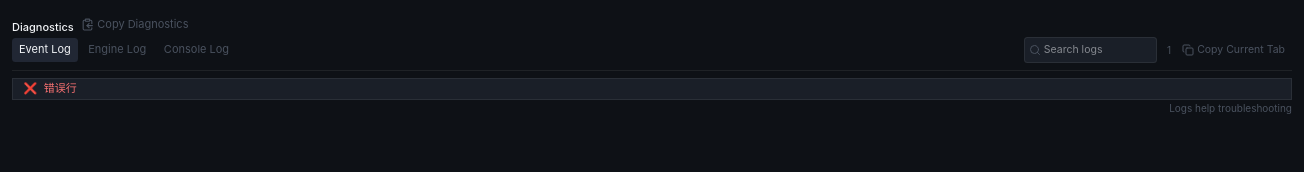
Scenario: DiagnosticsModal 组件 › 复制诊断信息按钮 → 全量包（应用信息 + 事件日志 + serve + renderer）
What coordinates should you click on to do the following:
click the button with class "diag-header-btn"
I would click on:
 (135, 24)
Its box is [74,12,196,37].
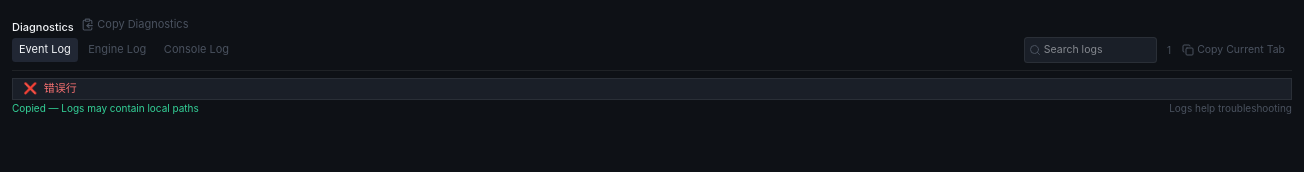
Now the text with class "diag-footer-status" shows "Copied", box [12,102,199,114]
